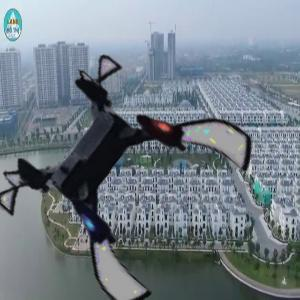drone: (18, 65, 239, 286)
